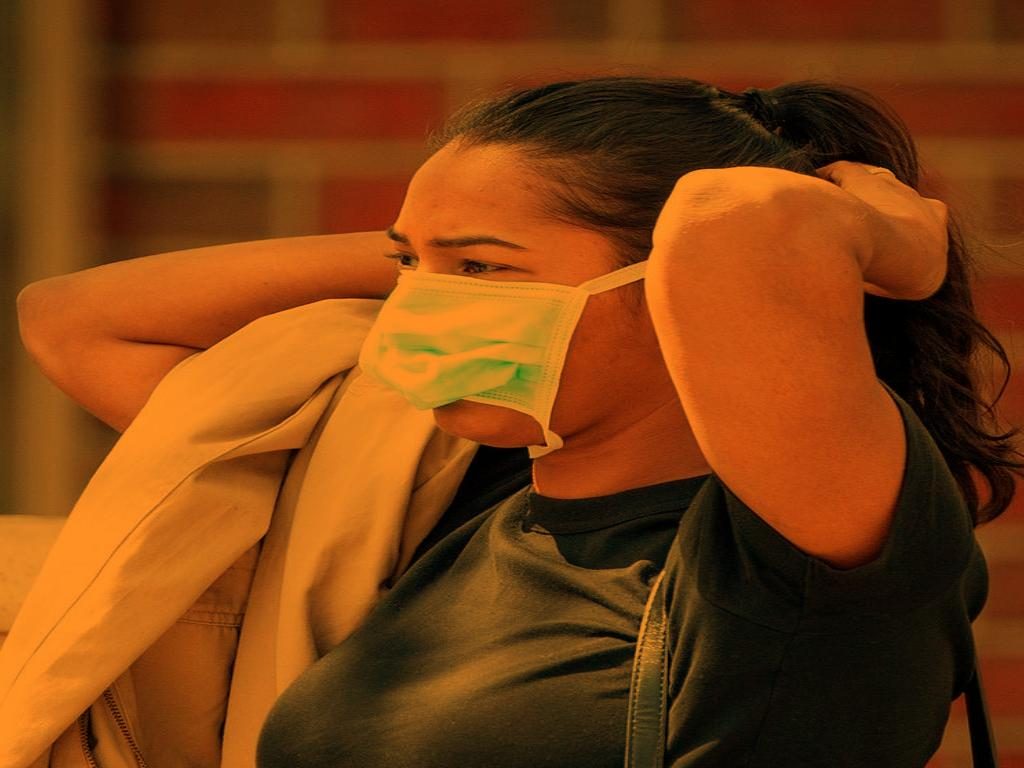mask_weared_incorrect: (352, 75, 813, 465)
